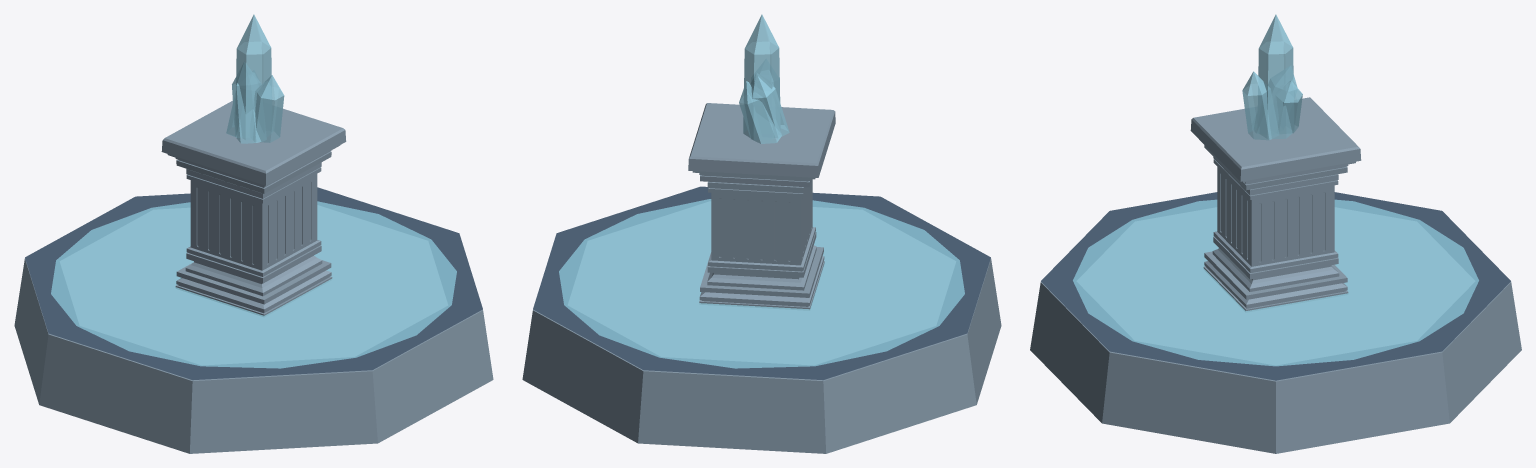
Rendered from spring.fbx.
3 renders of one model, left to right at view 1: azimuth 30°, elevation 25°; view 2: azimuth 150°, elevation 25°; view 3: azimuth 270°, elevation 25°, orthographic.
Parts seen in each view (by area): view 1: spring; view 2: spring; view 3: spring.
Part boxes in pixels (left/top/right/bottom): spring: left=14, top=14, right=493, bottom=453; spring: left=522, top=14, right=1001, bottom=453; spring: left=1030, top=14, right=1521, bottom=453.
Bounding box in the file's own units: 2.76 × 2.08 × 2.76.
